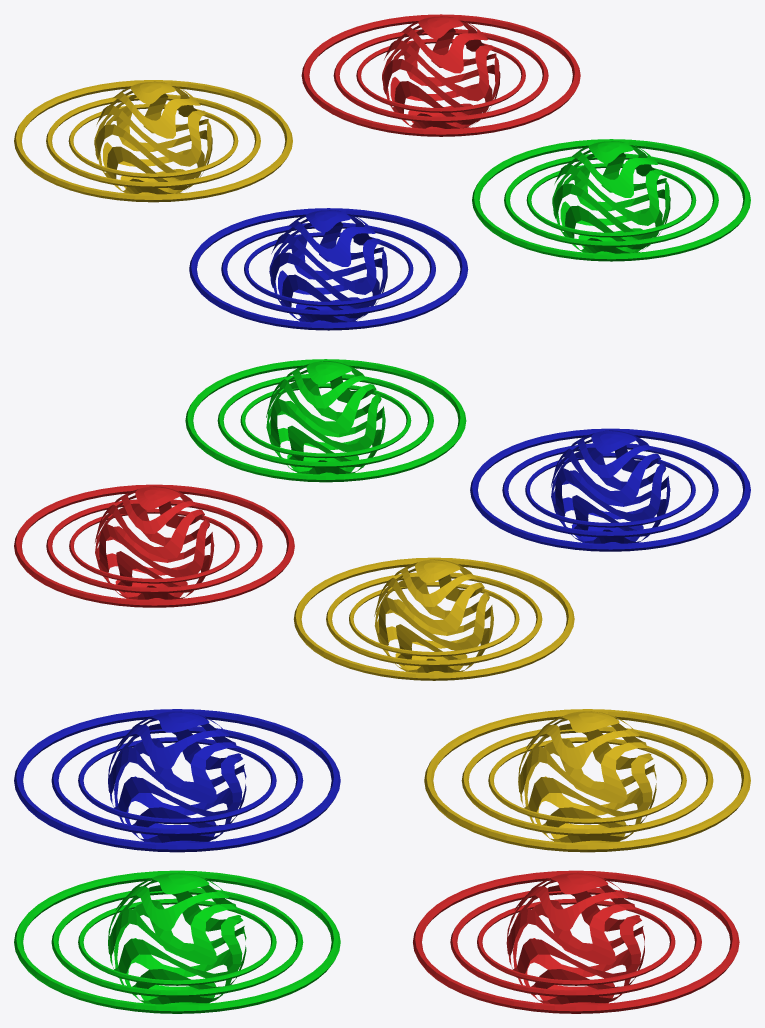
The model's file is Genius_Sphere_Multiple.fbx.
3 views of the same model, one above another, from view 1: azimuth 30°, elevation 25°; view 2: azimuth 150°, elevation 25°; view 3: azimuth 270°, elevation 25° (orthographic). The views are drawn at different scales.
Parts seen in each view (by area): view 1: Sphere.002, Sphere.003, Sphere, Sphere.004, Torus.008, Torus.009, Torus.002, Torus.014, Torus.007, Torus.010, Torus.001, Torus.013 (+4 smaller); view 2: Sphere.003, Sphere.004, Sphere, Sphere.002, Torus.009, Torus.002, Torus.008, Torus.014, Torus.001, Torus.010, Torus.013, Torus.007 (+4 smaller); view 3: Sphere, Sphere.003, Sphere.004, Sphere.002, Torus.002, Torus.008, Torus.009, Torus.014, Torus.013, Torus.010, Torus.007, Torus.001 (+4 smaller).
Boxes of the visible parts, left/top/right/bottom form: Sphere.002: left=552, top=141, right=670, bottom=253; Sphere.003: left=269, top=210, right=387, bottom=322; Sphere: left=382, top=16, right=500, bottom=128; Sphere.004: left=94, top=81, right=212, bottom=194; Torus.008: left=472, top=139, right=750, bottom=261; Torus.009: left=189, top=208, right=468, bottom=330; Torus.002: left=301, top=14, right=580, bottom=136; Torus.014: left=14, top=80, right=292, bottom=202; Torus.007: left=504, top=153, right=718, bottom=247; Torus.010: left=221, top=222, right=435, bottom=316; Torus.001: left=333, top=29, right=548, bottom=122; Torus.013: left=46, top=94, right=260, bottom=188; Sphere.003: left=551, top=430, right=670, bottom=543; Sphere.004: left=374, top=559, right=493, bottom=672; Sphere: left=95, top=486, right=214, bottom=599; Sphere.002: left=266, top=361, right=385, bottom=474; Torus.009: left=470, top=428, right=750, bottom=551; Torus.002: left=14, top=484, right=294, bottom=607; Torus.008: left=185, top=359, right=466, bottom=482; Torus.014: left=293, top=557, right=574, bottom=680; Torus.001: left=46, top=499, right=262, bottom=593; Torus.010: left=502, top=443, right=718, bottom=537; Torus.013: left=326, top=572, right=542, bottom=666; Torus.007: left=217, top=374, right=433, bottom=468; Sphere: left=506, top=872, right=644, bottom=1004; Sphere.003: left=108, top=711, right=246, bottom=843; Sphere.004: left=518, top=711, right=656, bottom=843; Sphere.002: left=108, top=872, right=246, bottom=1004; Torus.002: left=413, top=870, right=739, bottom=1013; Torus.008: left=14, top=870, right=340, bottom=1013; Torus.009: left=14, top=709, right=340, bottom=852; Torus.014: left=424, top=709, right=750, bottom=852; Torus.013: left=461, top=726, right=713, bottom=835; Torus.010: left=51, top=726, right=303, bottom=835; Torus.007: left=51, top=888, right=303, bottom=997; Torus.001: left=450, top=888, right=701, bottom=997.
Size of the model in its own units: 1021 by 200 by 1061.
